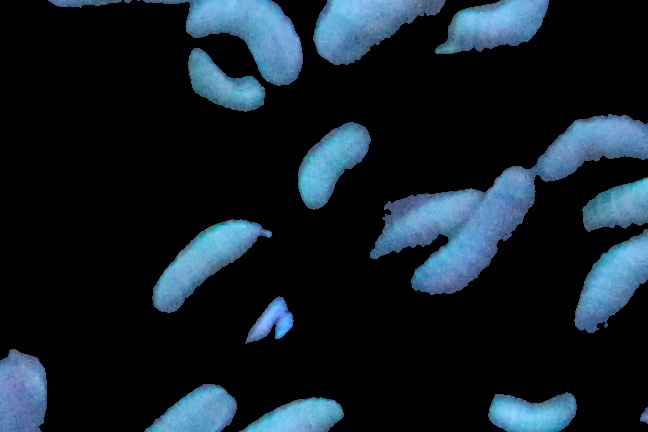larvae: (401, 166, 537, 314), (149, 214, 270, 312), (189, 1, 307, 89), (376, 189, 487, 275), (322, 1, 443, 77), (565, 233, 648, 340), (530, 105, 648, 177), (428, 1, 559, 56), (299, 121, 372, 210), (184, 48, 264, 116), (143, 383, 237, 430), (486, 384, 578, 432), (571, 175, 648, 229), (245, 393, 348, 432)
